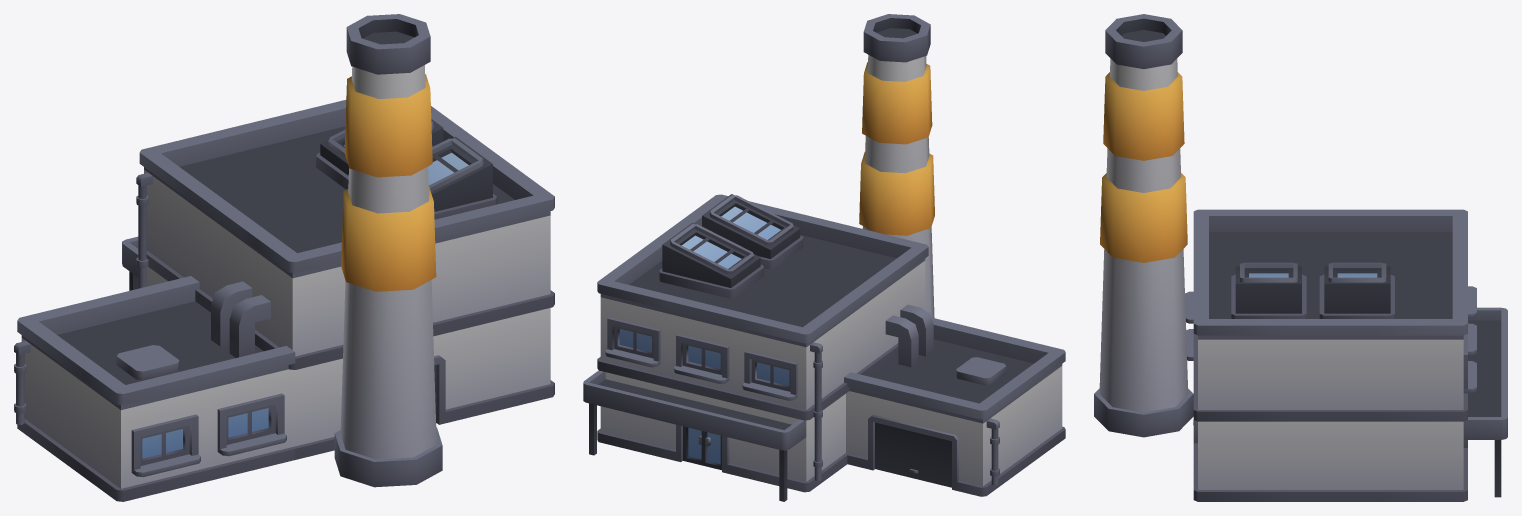
File: industrial-building-l.glb
3 views of the same model, side by side, from view 1: azimuth 30°, elevation 25°; view 2: azimuth 150°, elevation 25°; view 3: azimuth 270°, elevation 25° (orthographic). The views are drawn at different scales.
Parts seen in each view (by area): view 1: building-l; view 2: building-l; view 3: building-l.
Boxes of the visible parts, left/top/right/bottom form: building-l: left=14, top=14, right=554, bottom=501; building-l: left=583, top=14, right=1065, bottom=501; building-l: left=1094, top=14, right=1507, bottom=501.
Bounding box in the file's own units: 2.08 × 1.92 × 1.87.
